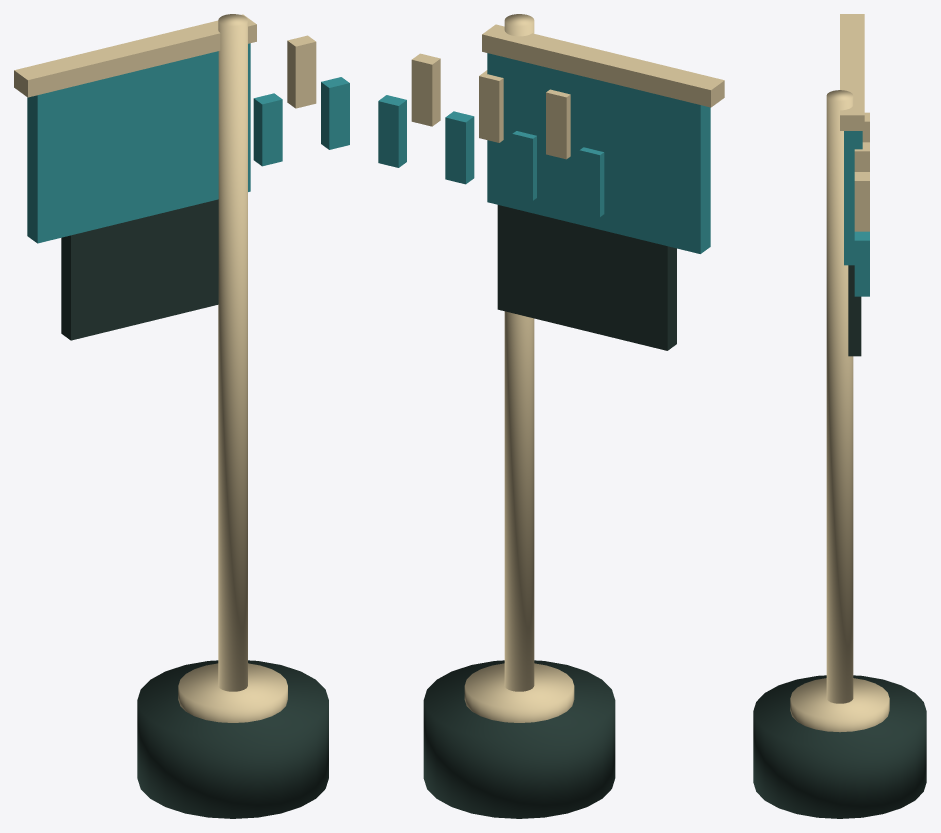
File: fanflag.steppe-sails-old.glb
3 views of the same model, side by side, from view 1: azimuth 30°, elevation 25°; view 2: azimuth 150°, elevation 25°; view 3: azimuth 270°, elevation 25° (orthographic). The views are drawn at different scales.
Visible parts, largest first — view 1: weighted flag foot; view 2: weighted flag foot; view 3: weighted flag foot.
Boxes of the visible parts, <box> form: weighted flag foot: <box>14,14,349,818</box>; weighted flag foot: <box>378,14,724,818</box>; weighted flag foot: <box>753,14,926,818</box>.
Bounding box in the file's own units: 0.836 × 1.84 × 0.42.
